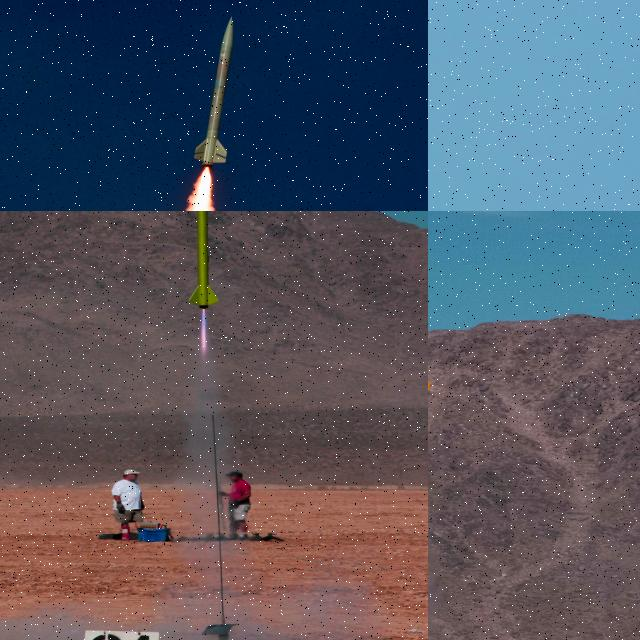Rocket: (192, 15, 234, 169), (188, 211, 218, 309)
